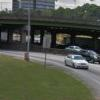Bridge: (2, 3, 94, 44)
